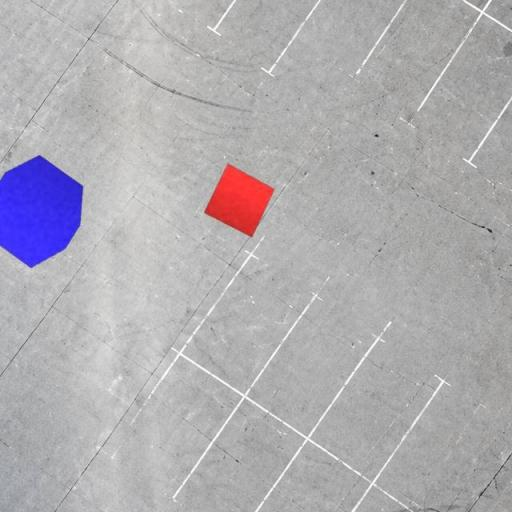RED_SQUARE: (203, 163, 275, 238)
